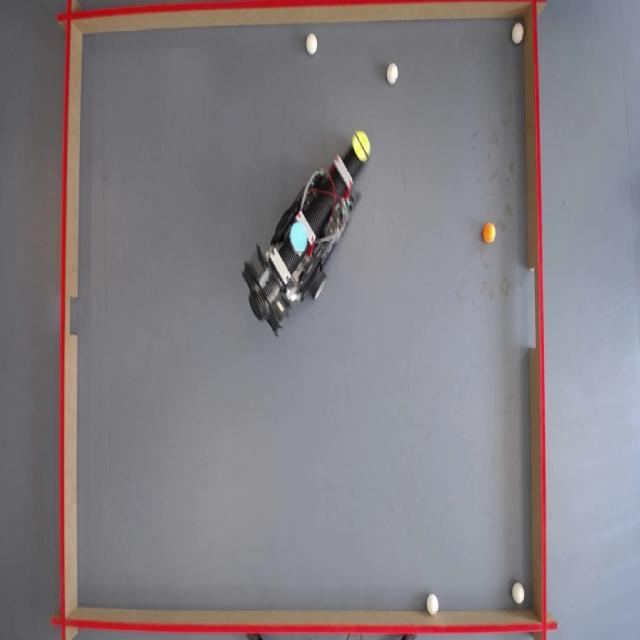orange: (482, 223, 496, 243)
robot: (239, 134, 371, 340)
robot-front: (353, 130, 372, 162)
robot-rear: (290, 220, 308, 252)
white: (512, 583, 526, 605), (512, 24, 526, 46), (426, 593, 440, 615), (306, 33, 319, 55), (386, 64, 399, 85)
